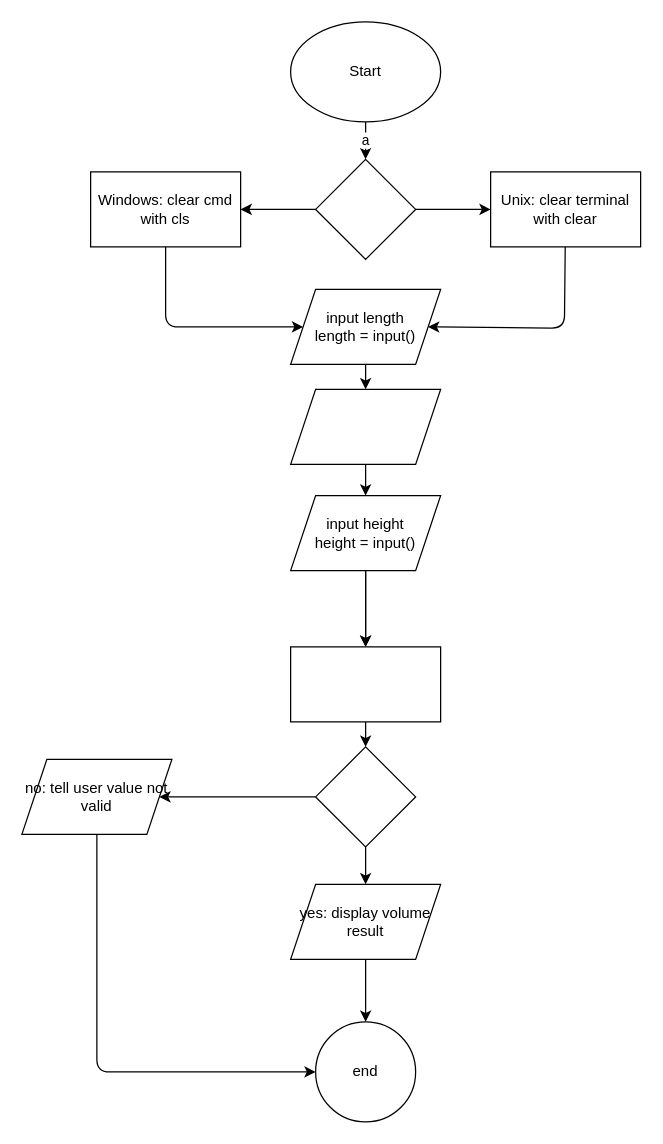
Image size: 663x1144. Some labels were removed from this diagram. The shapes that lost their labels are listed below. From the top down, each one's centre as x and y in pixels, then its label:
the point at 365,208: is on OS...?
the point at 365,426: input width width = input()
the point at 365,684: calculate volume volume = length * width * height
the point at 365,796: inputted value is valid? (integer)
